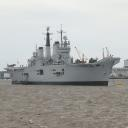Portanaves: (4, 24, 122, 89)
